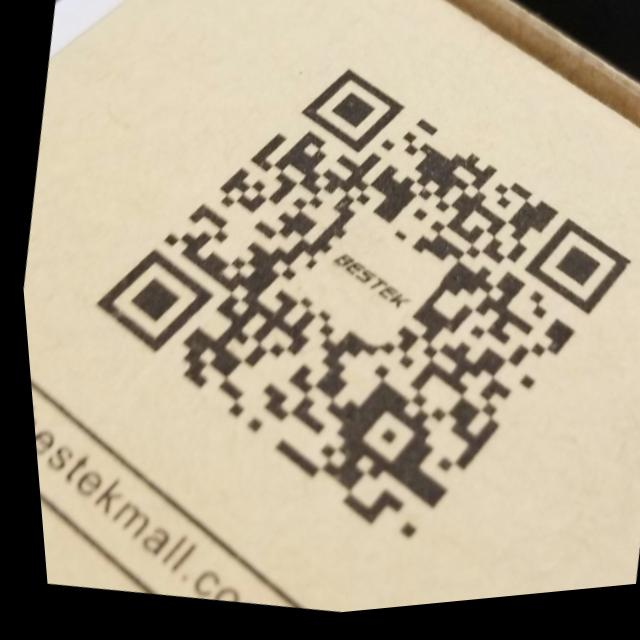QR_CODE: (20, 0, 640, 622)
